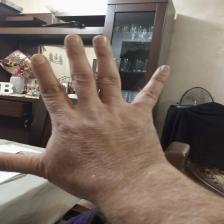five: (1, 35, 187, 209)
